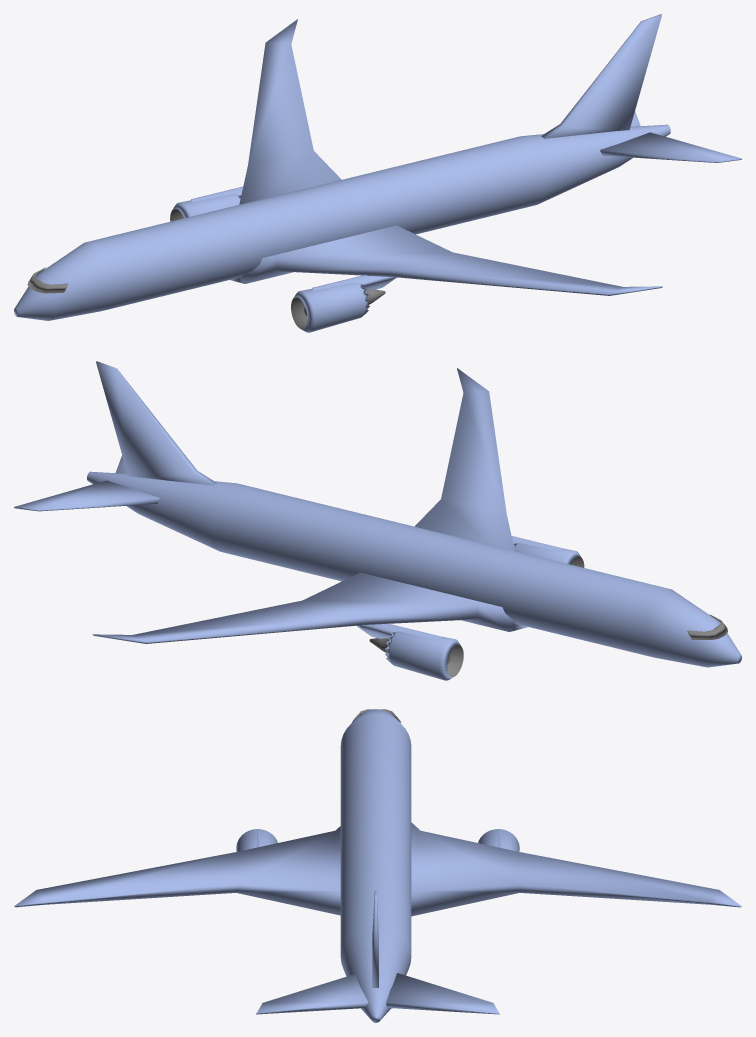
The picture shows the model from 3 angles, top to bottom: view 1: azimuth 30°, elevation 25°; view 2: azimuth 150°, elevation 25°; view 3: azimuth 270°, elevation 25°; orthographic projection.
Parts seen in each view (by area): view 1: Cylinder.001, Plane.001, Plane.004, Plane, Cylinder, Plane.002, Cylinder.002, Plane.006; view 2: Cylinder.001, Plane.004, Plane.001, Plane, Cylinder.002, Plane.005, Cylinder, Plane.007; view 3: Cylinder.001, Plane.004, Plane.001, Plane.005, Plane.002, Cylinder, Cylinder.002, Plane.
Part boxes in pixels (bbox=[...]): Cylinder.001: bbox=[14, 124, 670, 320]; Plane.001: bbox=[230, 225, 663, 295]; Plane.004: bbox=[239, 19, 341, 204]; Plane: bbox=[541, 14, 661, 138]; Cylinder: bbox=[291, 282, 385, 332]; Plane.002: bbox=[600, 132, 741, 162]; Cylinder.002: bbox=[170, 193, 240, 221]; Plane.006: bbox=[312, 275, 396, 290]; Cylinder.001: bbox=[87, 471, 741, 667]; Plane.004: bbox=[92, 572, 527, 643]; Plane.001: bbox=[415, 368, 514, 550]; Plane: bbox=[96, 361, 216, 485]; Cylinder.002: bbox=[369, 631, 463, 680]; Plane.005: bbox=[14, 480, 159, 511]; Cylinder: bbox=[513, 543, 584, 567]; Plane.007: bbox=[356, 623, 441, 639]; Cylinder.001: bbox=[340, 709, 411, 1022]; Plane.004: bbox=[411, 822, 741, 916]; Plane.001: bbox=[14, 826, 340, 915]; Plane.005: bbox=[386, 973, 499, 1014]; Plane.002: bbox=[256, 974, 368, 1014]; Cylinder: bbox=[236, 829, 277, 851]; Cylinder.002: bbox=[478, 829, 519, 851]; Plane: bbox=[372, 891, 378, 987].
Size of the model in its own units: 4.06 by 1 by 3.86.
